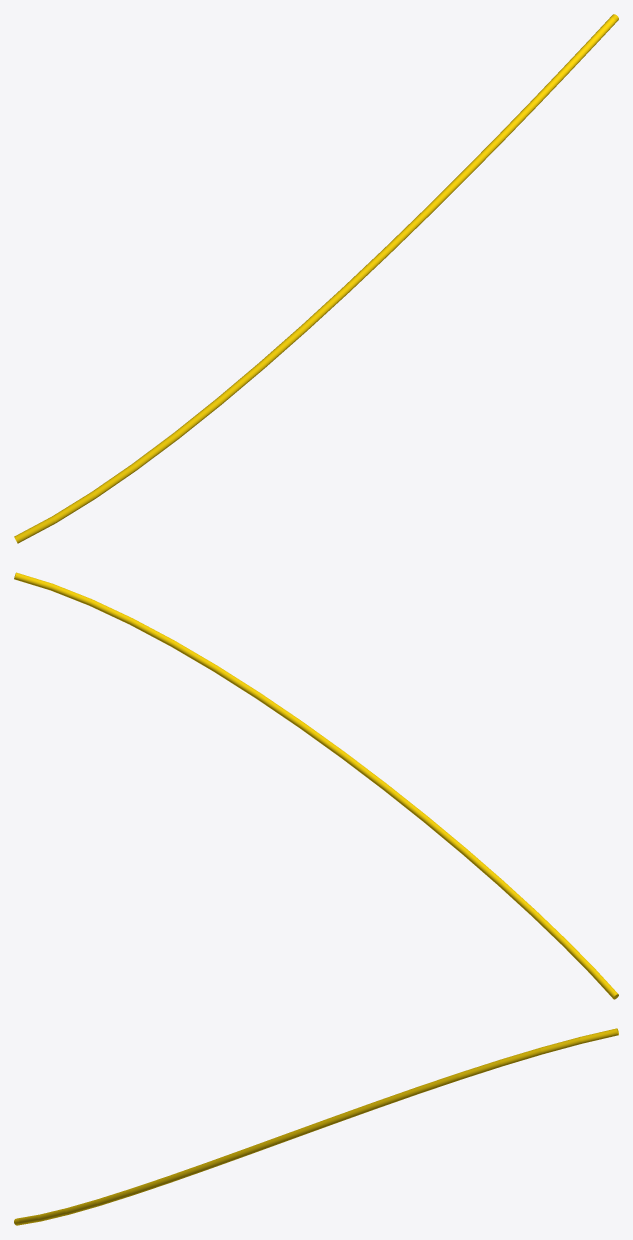
The model's file is Event_421364160_track_73.fbx.
3 renders of one model, top to bottom at view 1: azimuth 30°, elevation 25°; view 2: azimuth 150°, elevation 25°; view 3: azimuth 330°, elevation 25°, orthographic. The views are drawn at different scales.
Visible parts, largest first — view 1: Model; view 2: Model; view 3: Model.
Boxes of the visible parts, x1=… form: Model: x1=14, y1=14, x2=618, y2=543; Model: x1=14, y1=572, x2=618, y2=999; Model: x1=14, y1=1028, x2=618, y2=1225.
Bounding box in the file's own units: 3.69 × 1.92 × 0.5626.
